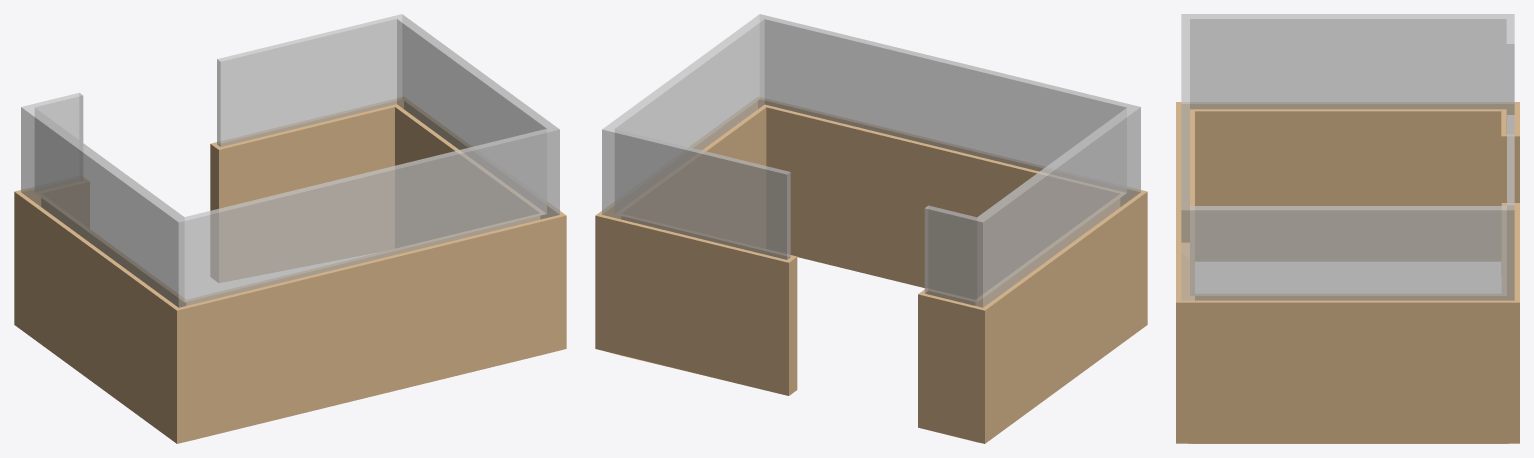
Rendered from Cubicle_3.fbx.
The picture shows the model from 3 angles, left to right: view 1: azimuth 30°, elevation 25°; view 2: azimuth 150°, elevation 25°; view 3: azimuth 270°, elevation 25°; orthographic projection. The views are drawn at different scales.
Parts seen in each view (by area): view 1: cubicle3_down, cubicle3_up; view 2: cubicle3_down, cubicle3_up; view 3: cubicle3_down, cubicle3_up.
Boxes of the visible parts, left/top/right/bottom form: cubicle3_down: left=14, top=97, right=566, bottom=443; cubicle3_up: left=21, top=14, right=559, bottom=307; cubicle3_down: left=595, top=97, right=1147, bottom=443; cubicle3_up: left=602, top=14, right=1140, bottom=307; cubicle3_down: left=1176, top=102, right=1519, bottom=443; cubicle3_up: left=1181, top=14, right=1514, bottom=300.
Size of the model in its own units: 506 by 282 by 366.
